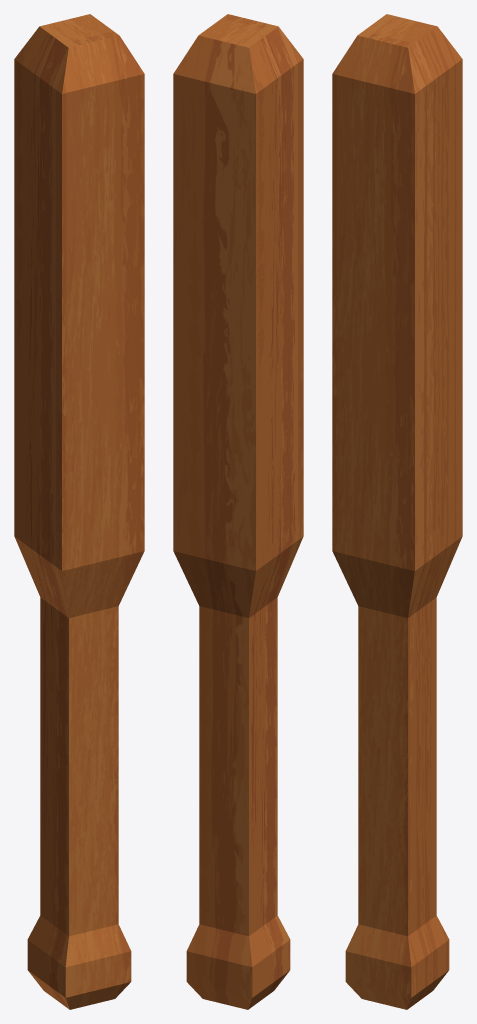
Rendered from BaseballBat.fbx.
3 renders of one model, left to right at view 1: azimuth 30°, elevation 25°; view 2: azimuth 150°, elevation 25°; view 3: azimuth 330°, elevation 25°, orthographic.
Visible parts, largest first — view 1: BaseballBat; view 2: BaseballBat; view 3: BaseballBat.
Part boxes in pixels (box(x1,y1,x2,y2)): BaseballBat: box(14, 14, 144, 1009); BaseballBat: box(173, 14, 303, 1009); BaseballBat: box(332, 14, 462, 1009).
Size of the model in its own units: 0.5023 by 5.6 by 0.5023.
